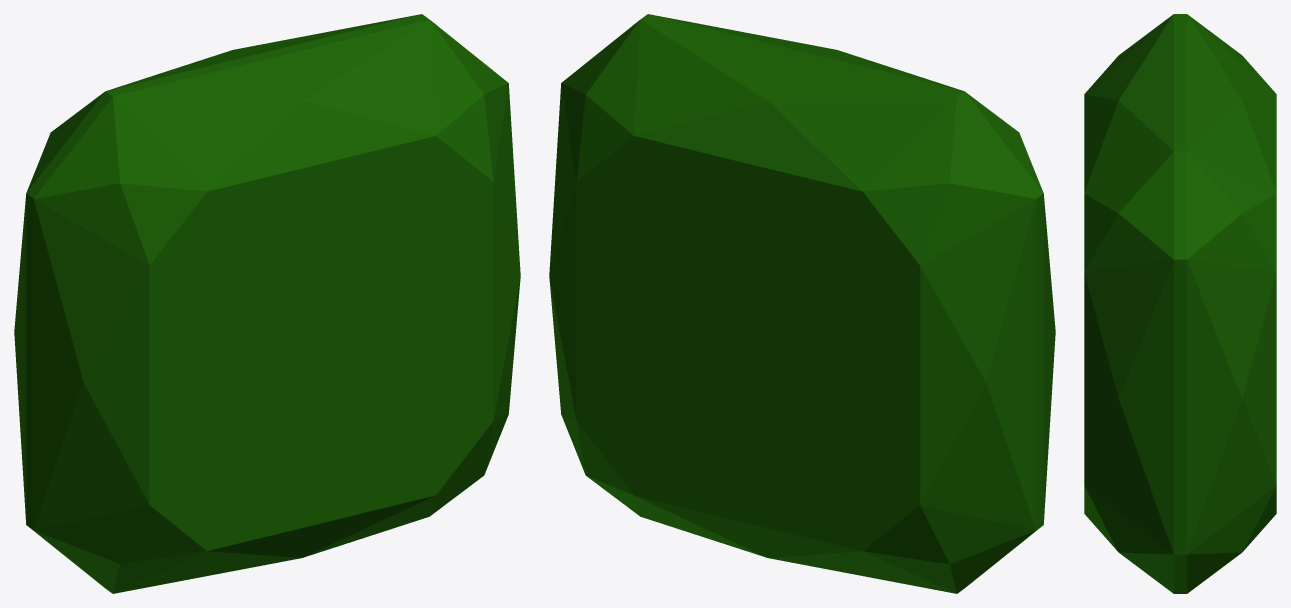
File: jewel3_Green.fbx
3 renders of one model, left to right at view 1: azimuth 30°, elevation 25°; view 2: azimuth 150°, elevation 25°; view 3: azimuth 270°, elevation 25°, orthographic. The views are drawn at different scales.
Parts seen in each view (by area): view 1: jewel3_Green; view 2: jewel3_Green; view 3: jewel3_Green.
Boxes of the visible parts, <box> form: jewel3_Green: <box>14,14,520,593</box>; jewel3_Green: <box>549,14,1055,593</box>; jewel3_Green: <box>1084,14,1276,593</box>.
Size of the model in its own units: 0.6066 by 0.6066 by 0.2392.
